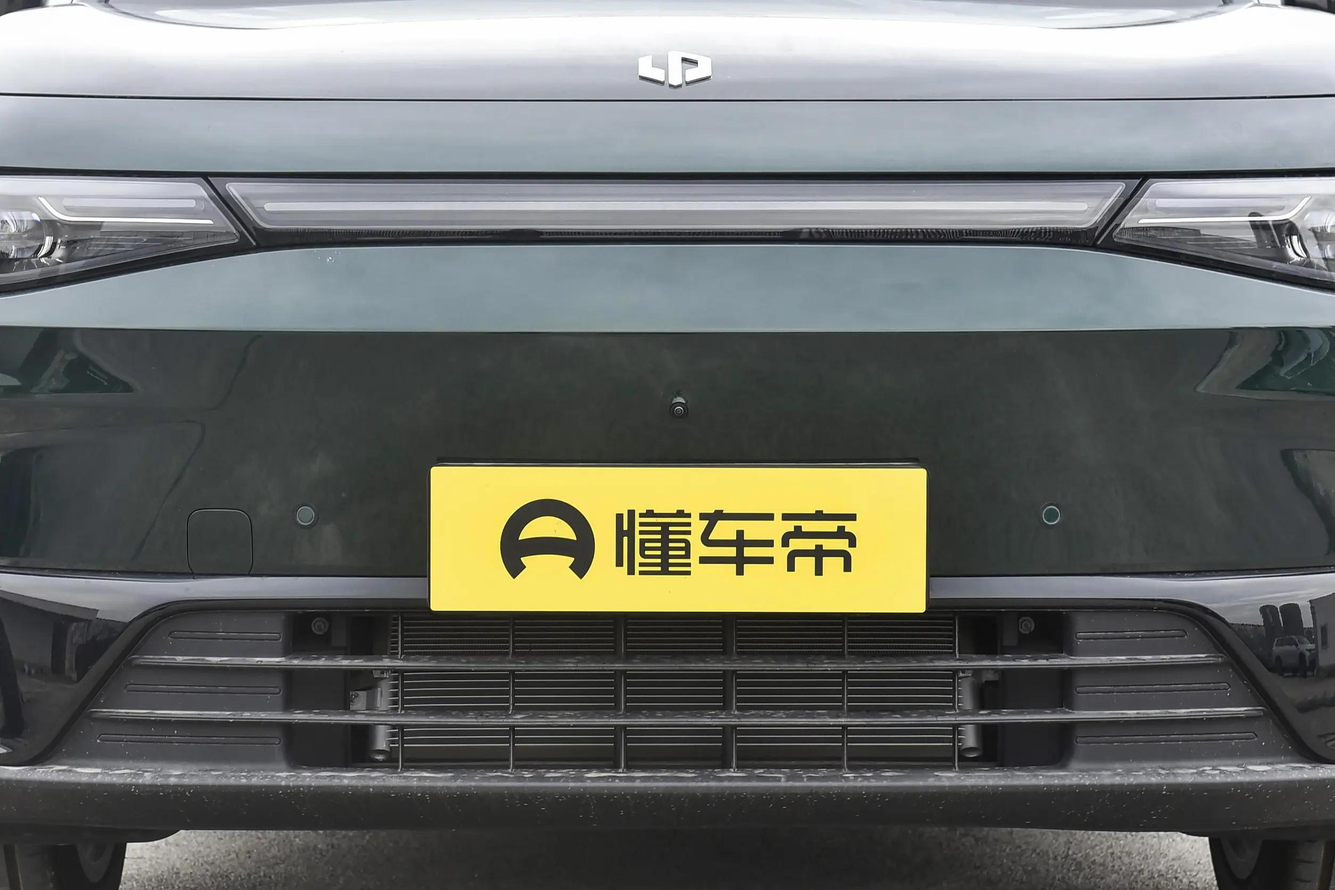LEAPMOTOR: (638, 50, 713, 87)
